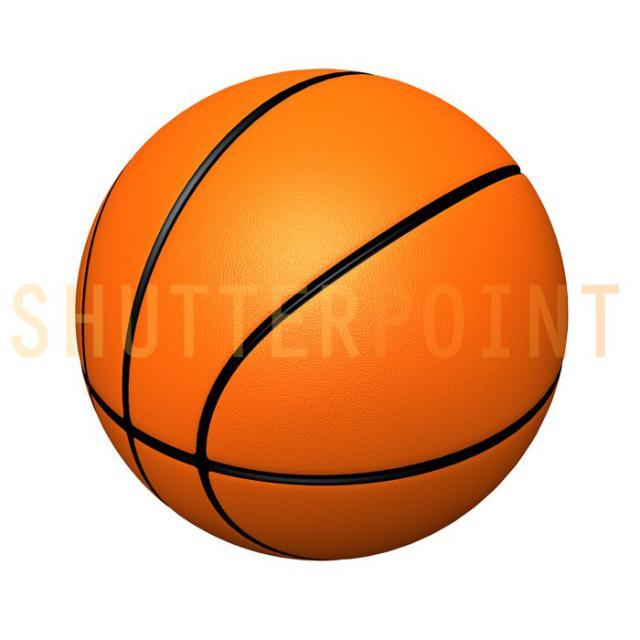basketball: (70, 68, 568, 560)
